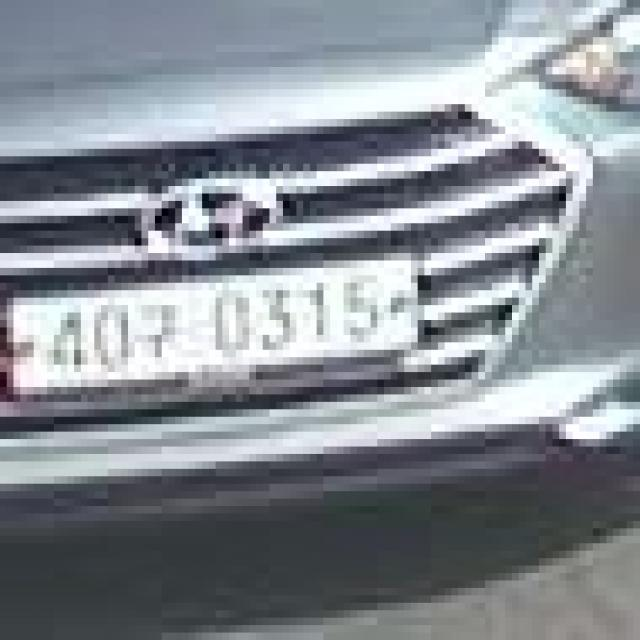0: (88, 298, 134, 380), (209, 282, 249, 364)
1: (303, 275, 337, 350)
3: (249, 276, 290, 358)
4: (41, 305, 88, 372)
5: (337, 268, 384, 350)
gu: (135, 290, 182, 372)
license_plate: (13, 246, 424, 394)
